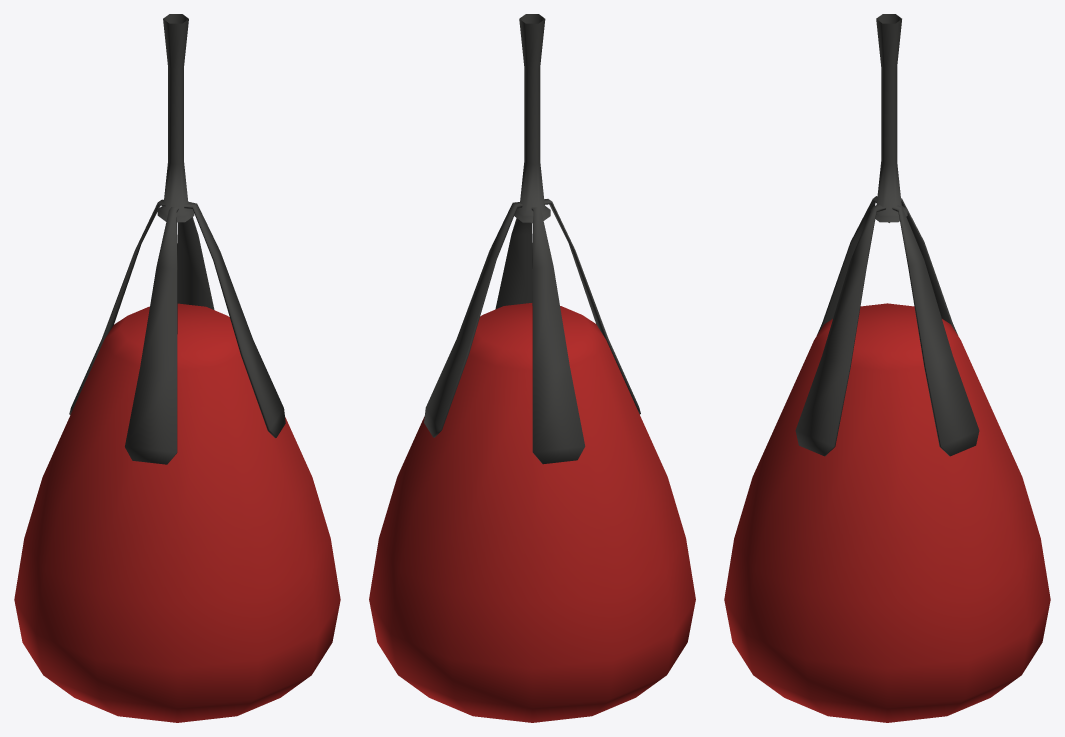
File: punching_bag_1.glb
3 views of the same model, side by side, from view 1: azimuth 30°, elevation 25°; view 2: azimuth 150°, elevation 25°; view 3: azimuth 270°, elevation 25° (orthographic).
Visible parts, largest first — view 1: GymEquipments_23_GymEquipments_SG_0; view 2: GymEquipments_23_GymEquipments_SG_0; view 3: GymEquipments_23_GymEquipments_SG_0.
Boxes of the visible parts, bbox=[...] form: GymEquipments_23_GymEquipments_SG_0: bbox=[14, 14, 340, 722]; GymEquipments_23_GymEquipments_SG_0: bbox=[369, 14, 695, 722]; GymEquipments_23_GymEquipments_SG_0: bbox=[724, 14, 1050, 722].
Bounding box in the file's own units: 0.2604 × 0.5979 × 0.2604.
Materials: 1 (1 with a texture image).
